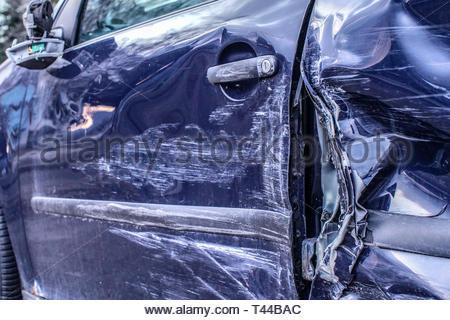doorouter-dent: (42, 43, 300, 304)
